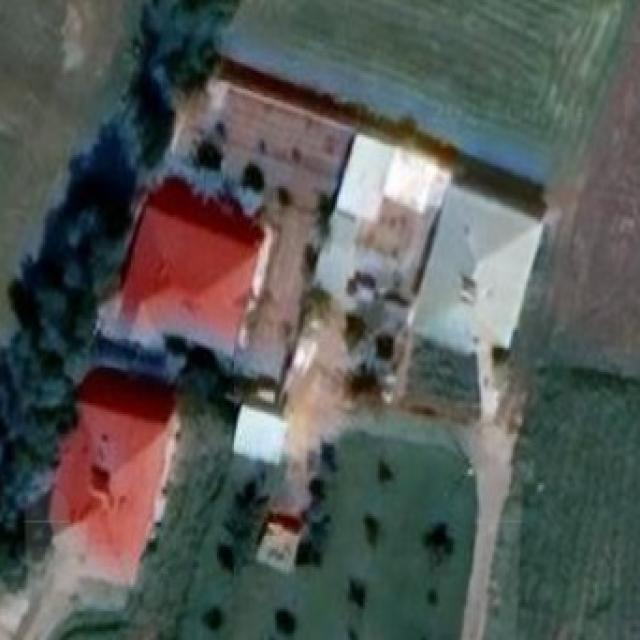Batiment: (50, 370, 177, 584), (120, 179, 264, 354), (413, 183, 543, 353), (336, 135, 450, 221)
